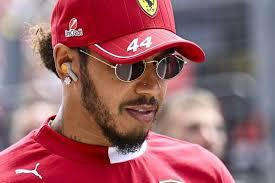cap: (47, 0, 225, 64)
sunglasses: (105, 50, 198, 82)
